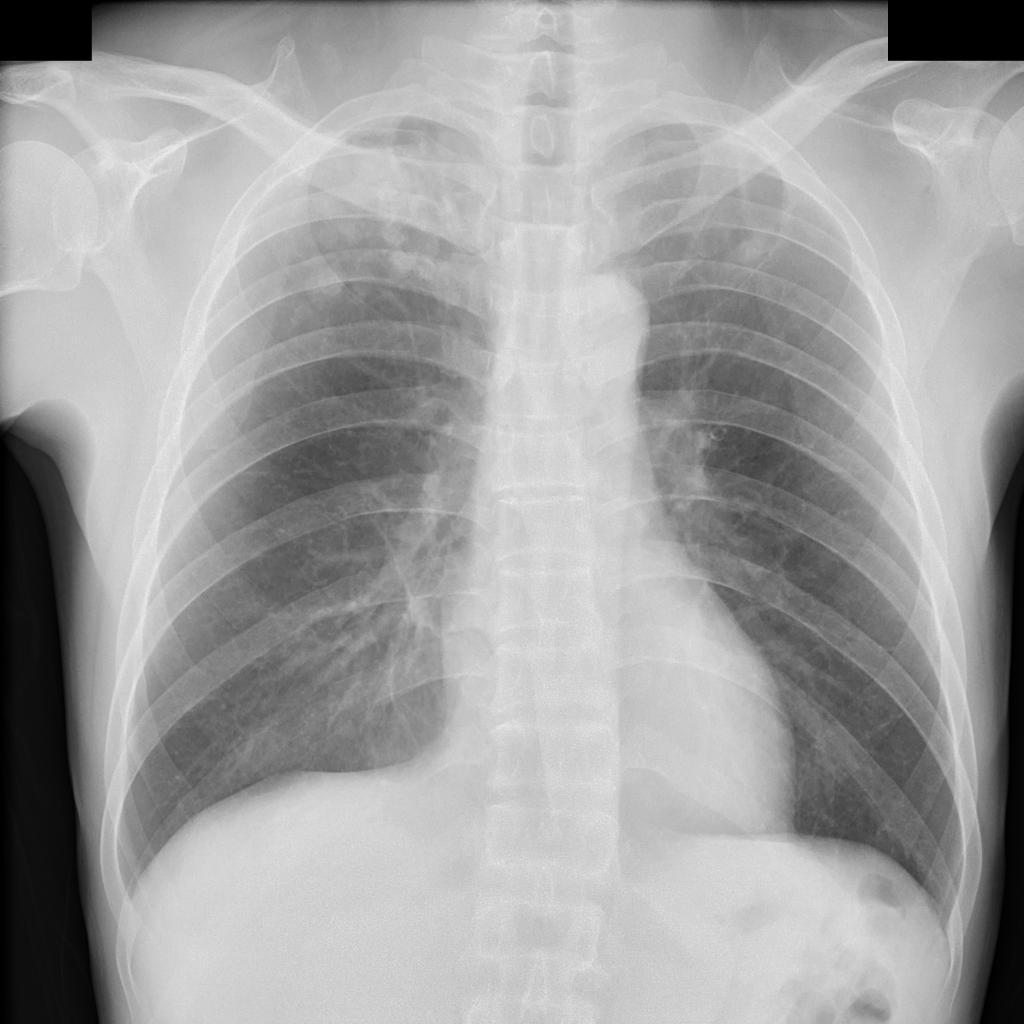Nodule: (299, 156, 428, 308), (736, 232, 775, 269)
